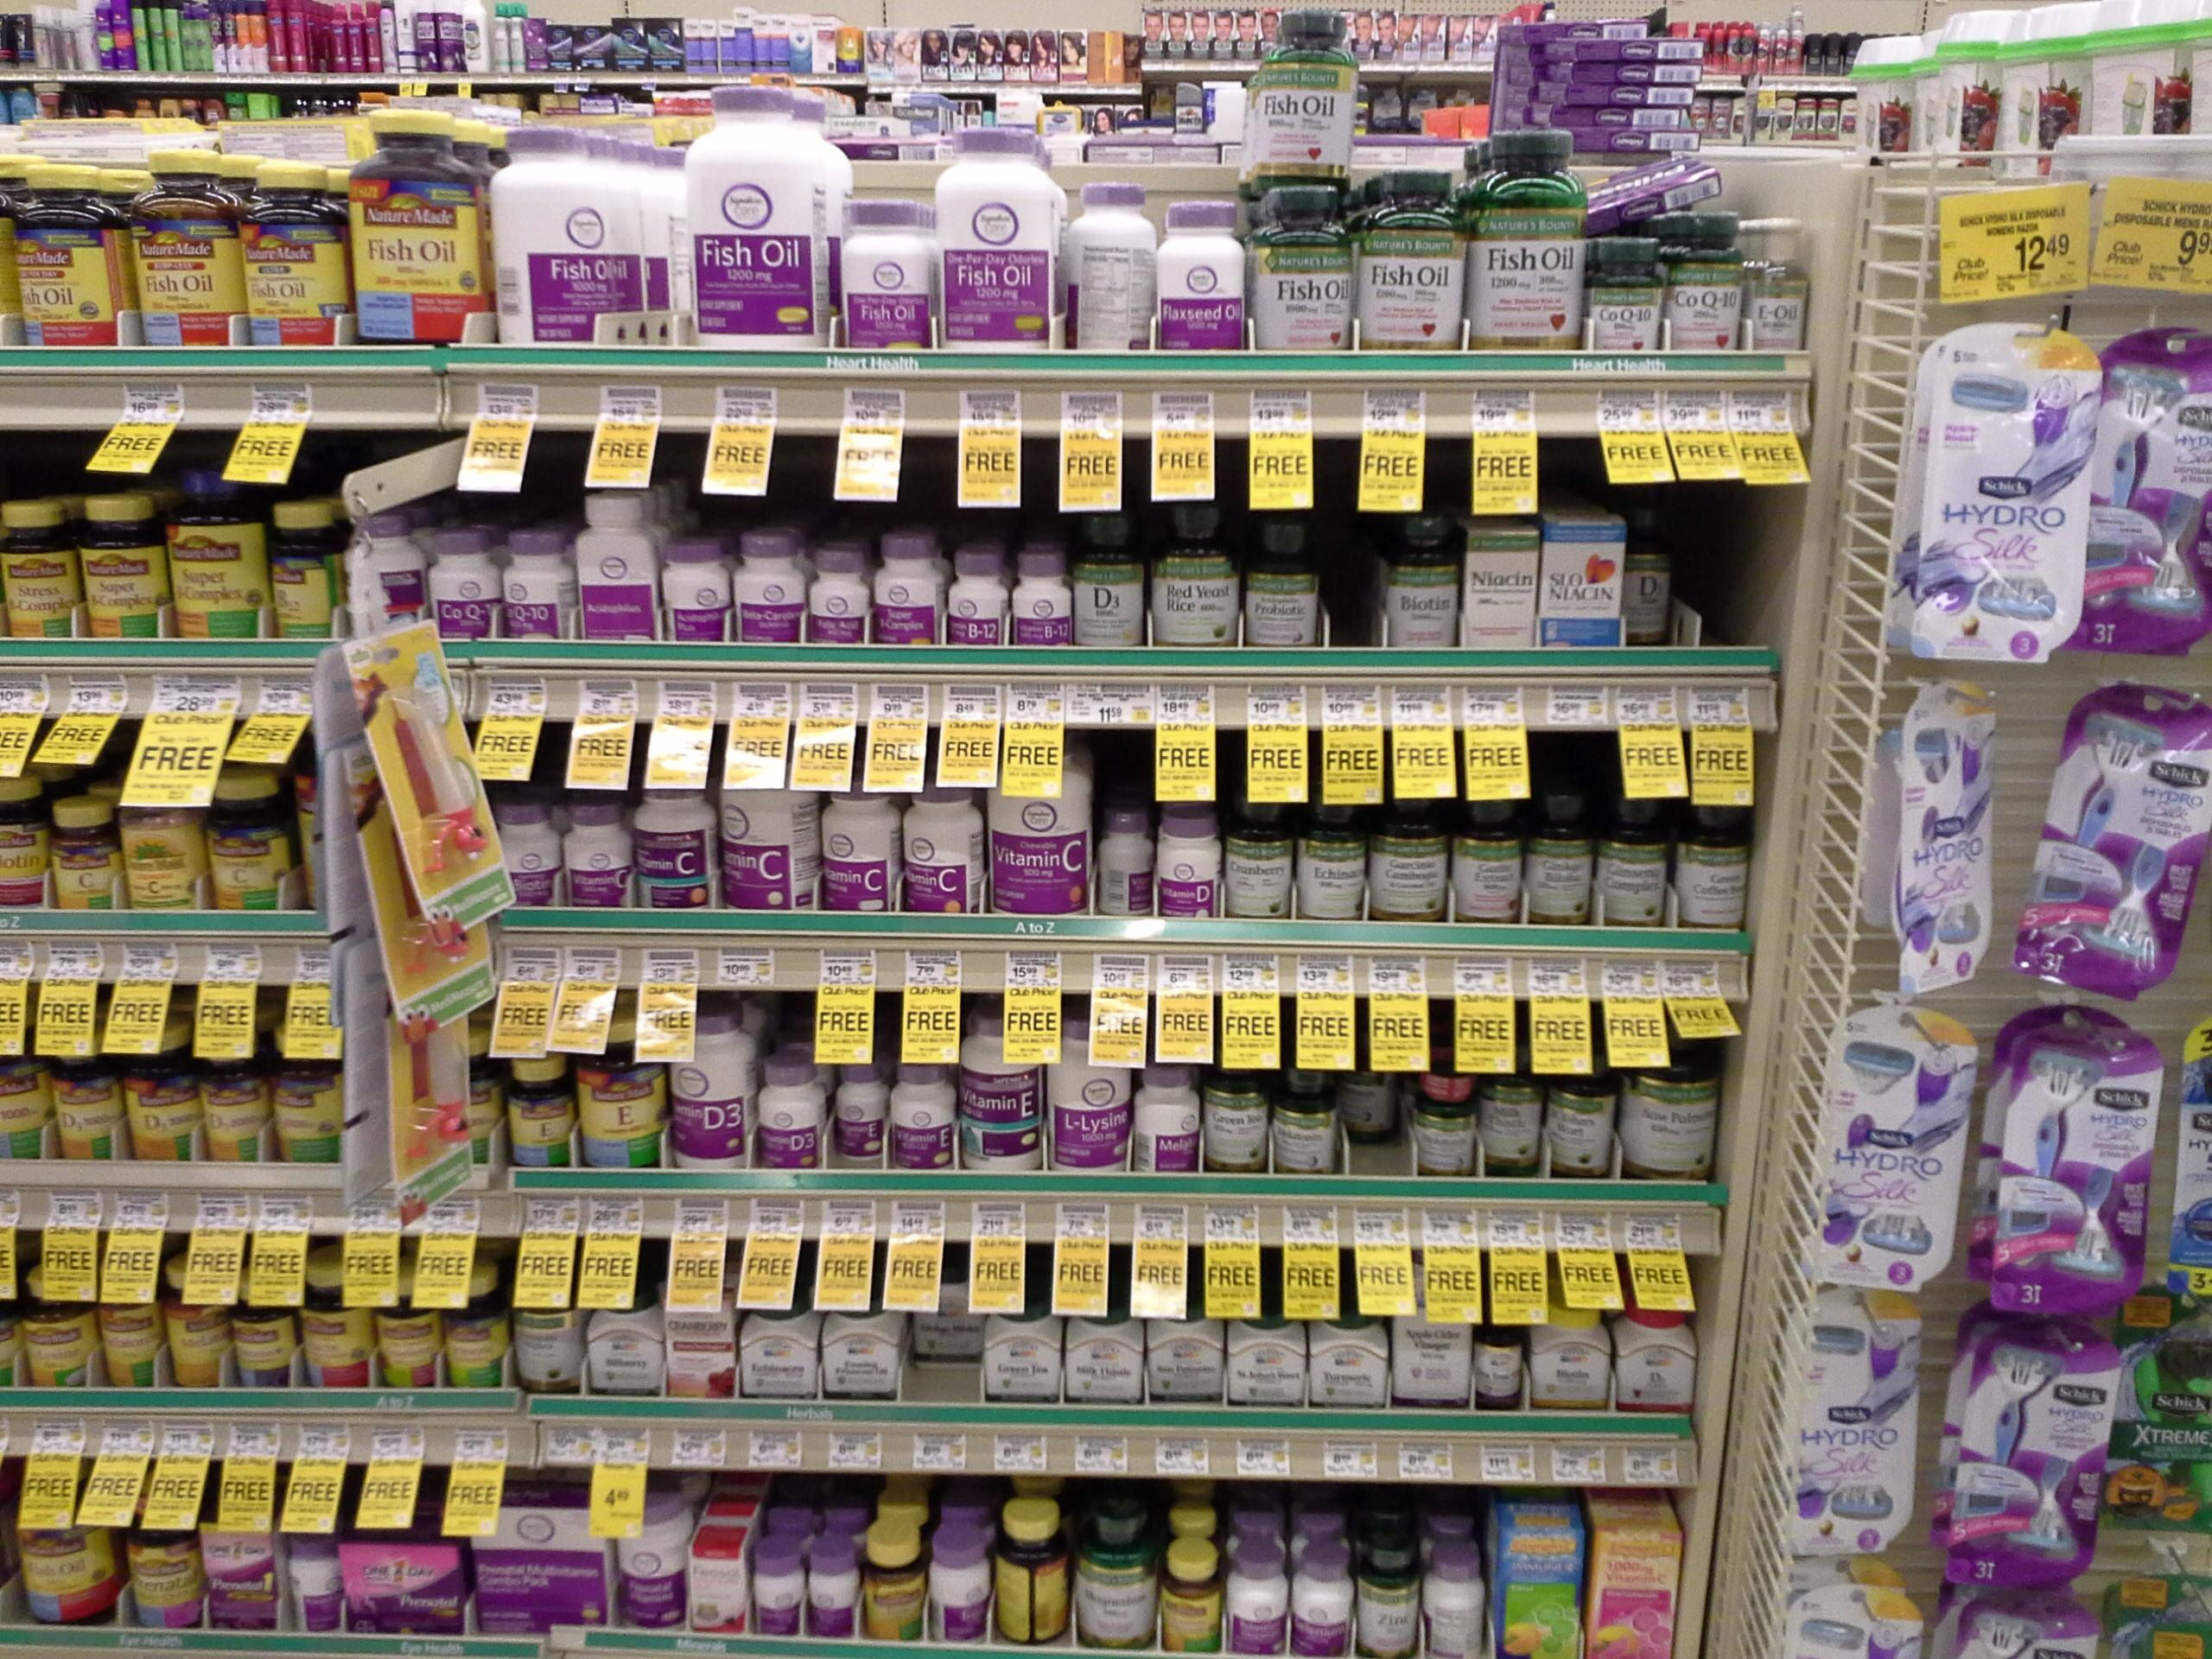empty: (1329, 519, 1379, 645), (1700, 516, 1747, 648)
misalignment: (1585, 162, 1730, 228)
